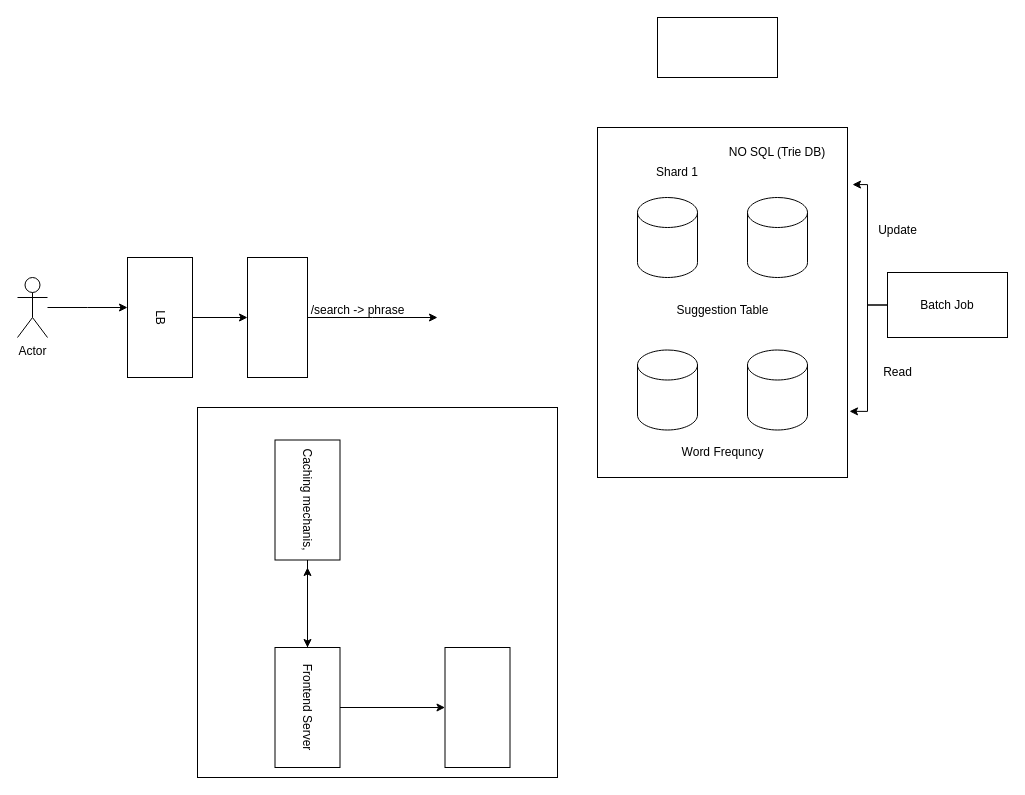
Image size: 1025x795. Some labels were removed from this diagram. The centre of each missing label's shape, as x and y in pixels:
"API Gateway" belongs at point (277, 317).
"Backend Server" belongs at point (477, 707).
"Caching DB" belongs at point (717, 47).
